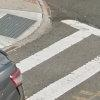Crosswalk: (29, 38, 100, 99)
